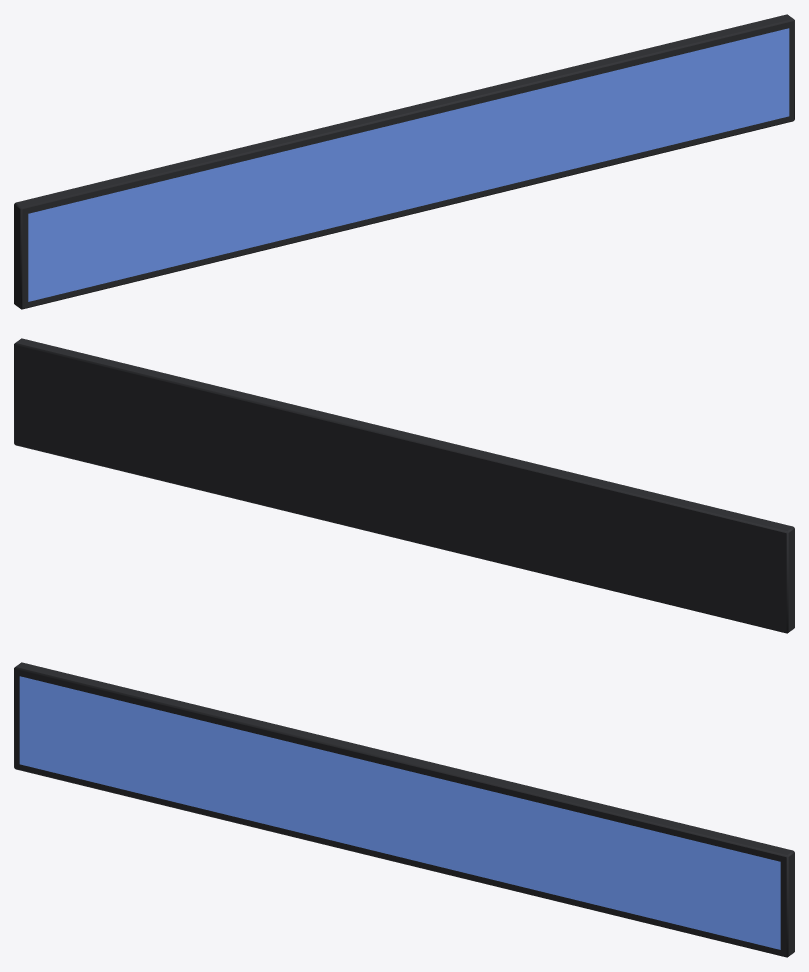
Rendered from Ad_Ribbon.glb.
3 views of the same model, one above another, from view 1: azimuth 30°, elevation 25°; view 2: azimuth 150°, elevation 25°; view 3: azimuth 330°, elevation 25° (orthographic).
Parts seen in each view (by area): view 1: Ad_Ribbon; view 2: Ad_Ribbon; view 3: Ad_Ribbon.
Part boxes in pixels (x1,y1,x2,y2): Ad_Ribbon: (14,14,794,309); Ad_Ribbon: (14,338,794,633); Ad_Ribbon: (14,662,794,957).
Size of the model in its own units: 5.7 by 0.72 by 0.104.
